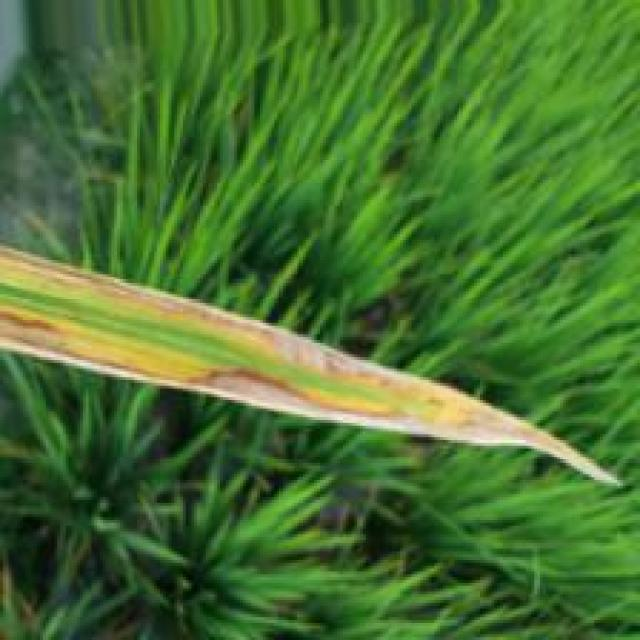Bacterial_Leaf_Blight: (0, 244, 626, 495)
